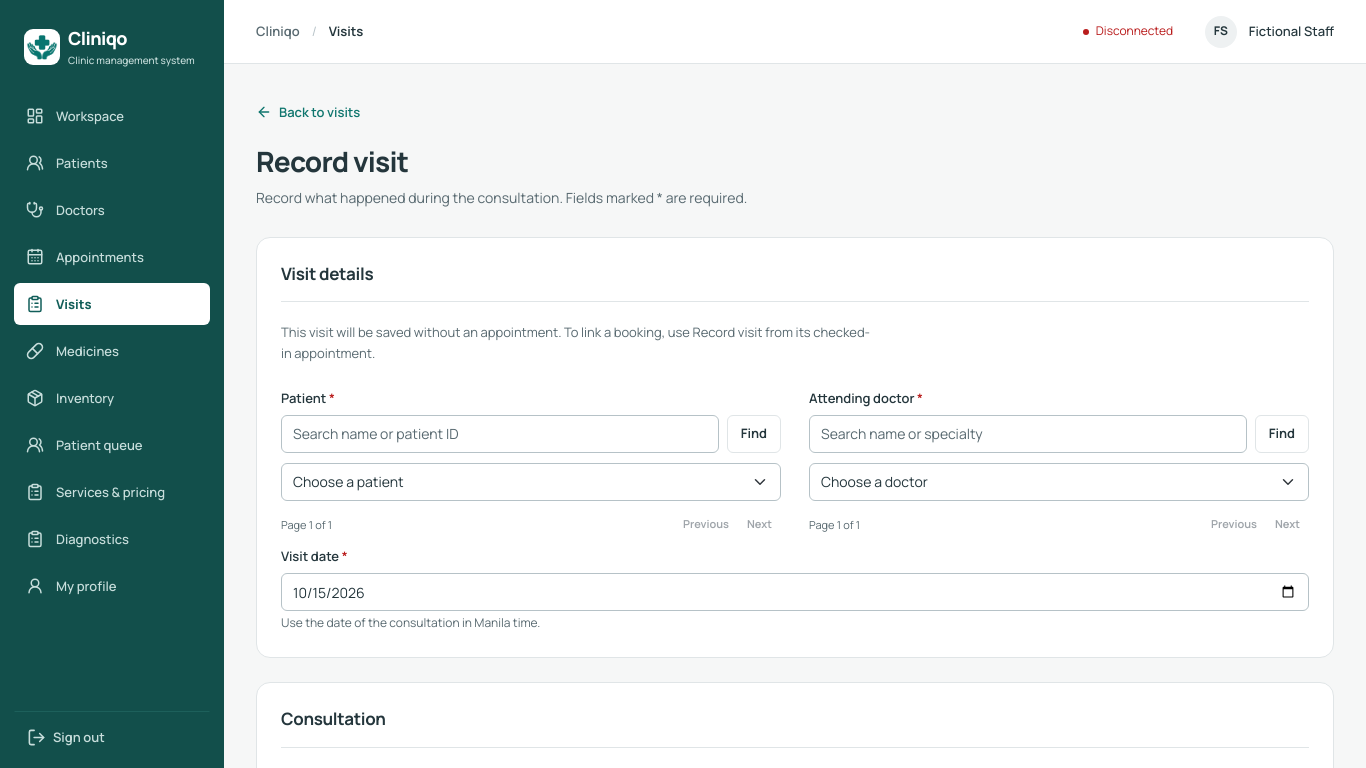
Test case: medicine and inventory screens › selects exact catalog products for a visit without creating a stock movement
The image size is (1366, 768).
Select "Fictional Patient · PT-001" in the dropdown labelled "Patient *" at point(531, 482), box [281,463,781,501]
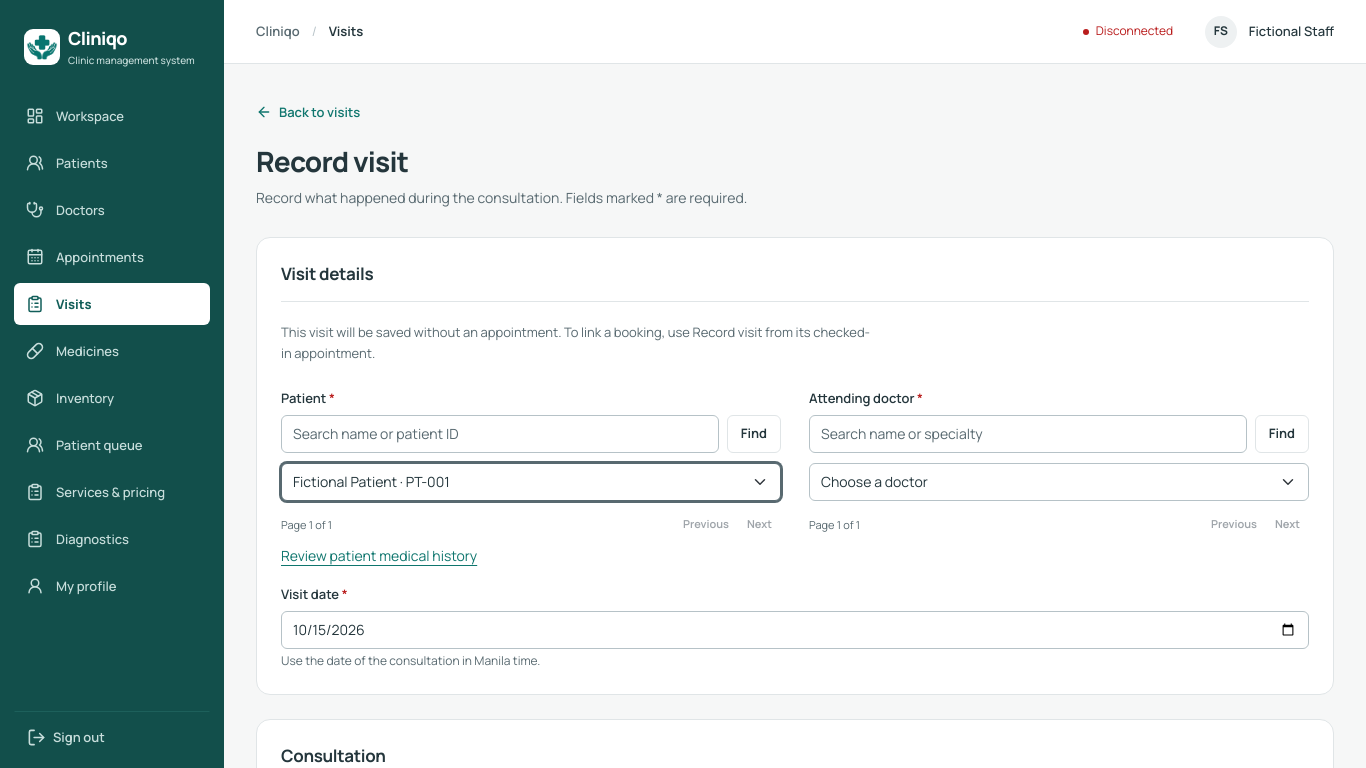
Select "Fictional Doctor · Family medicine" in the dropdown labelled "Attending doctor *" at point(1059, 482), box [809,463,1309,501]
(page scrolled)
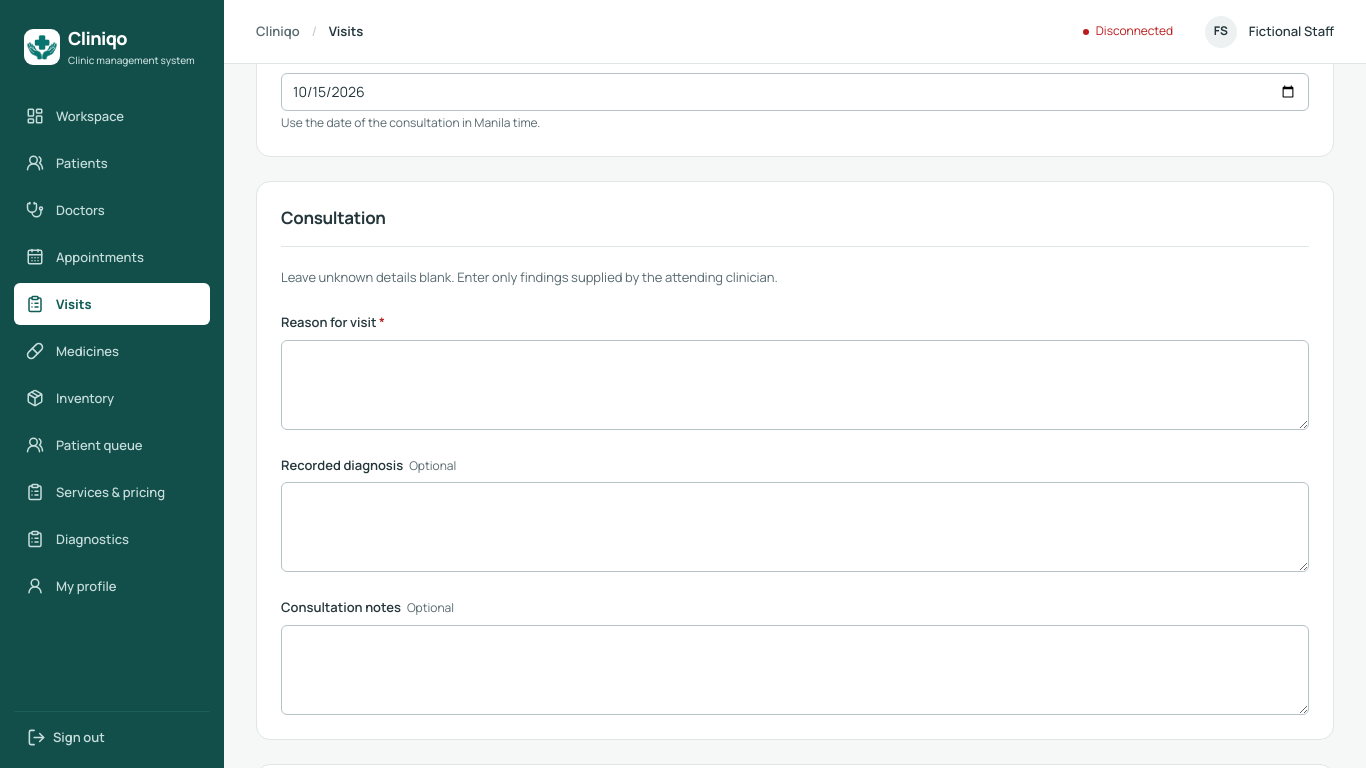
Type "Fictional consultation" into the text box labelled "Reason for visit *" at point(795, 384), box [281,340,1309,430]
(page scrolled)
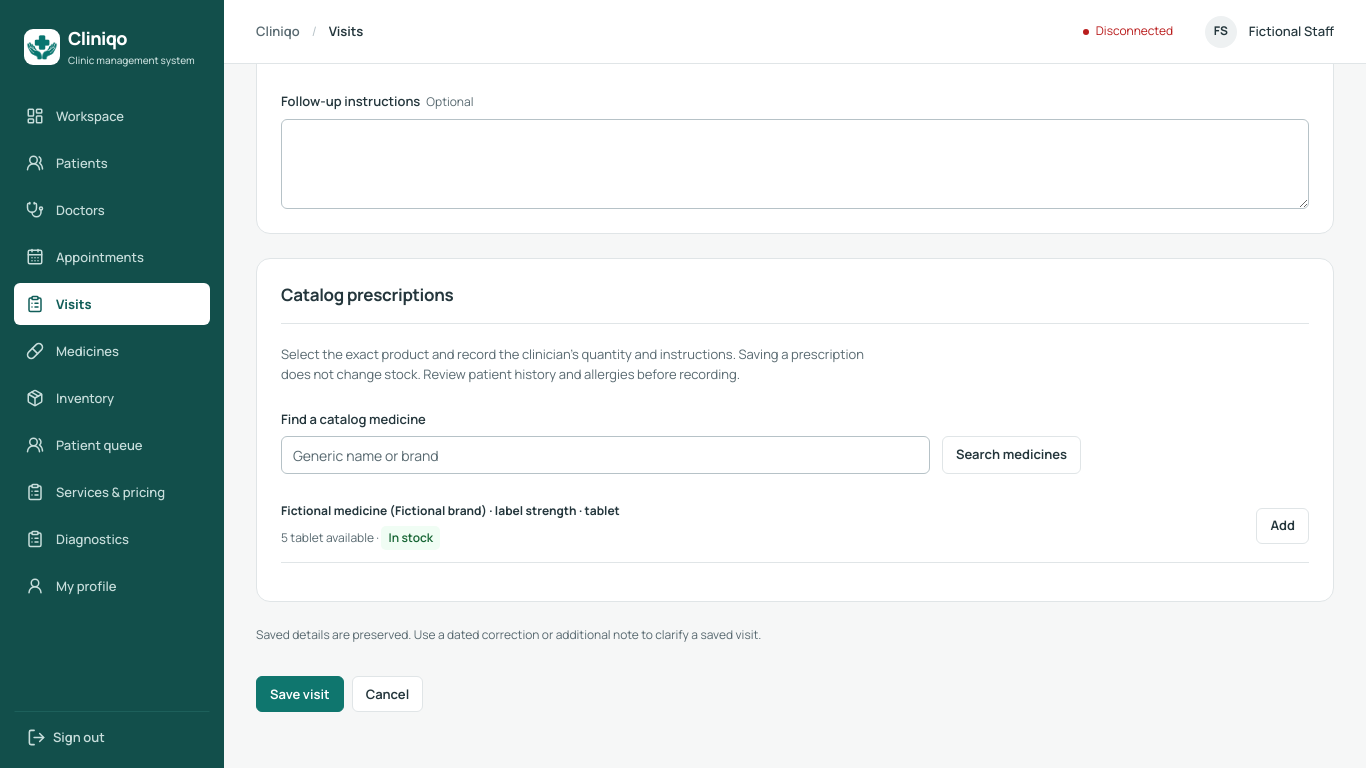
Click the button named "Add Fictional medicine" at point(1283, 526), box [1256,508,1309,544]
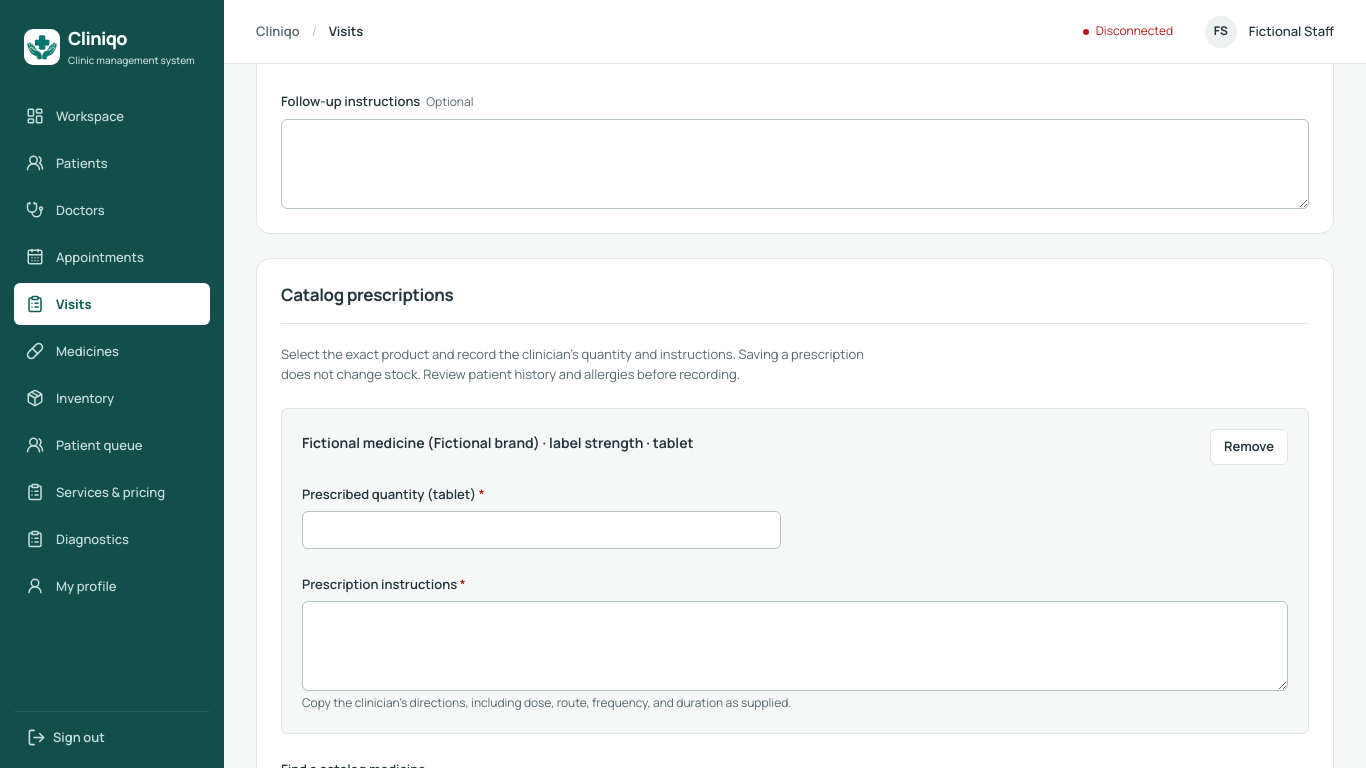
Type "3" into the number field labelled "Prescribed quantity (tablet) *" at point(542, 530), box [302,511,781,549]
Type "Fictional clinician directions" into the text box labelled "Prescription instructions *" at point(795, 646), box [302,601,1288,691]
(page scrolled)
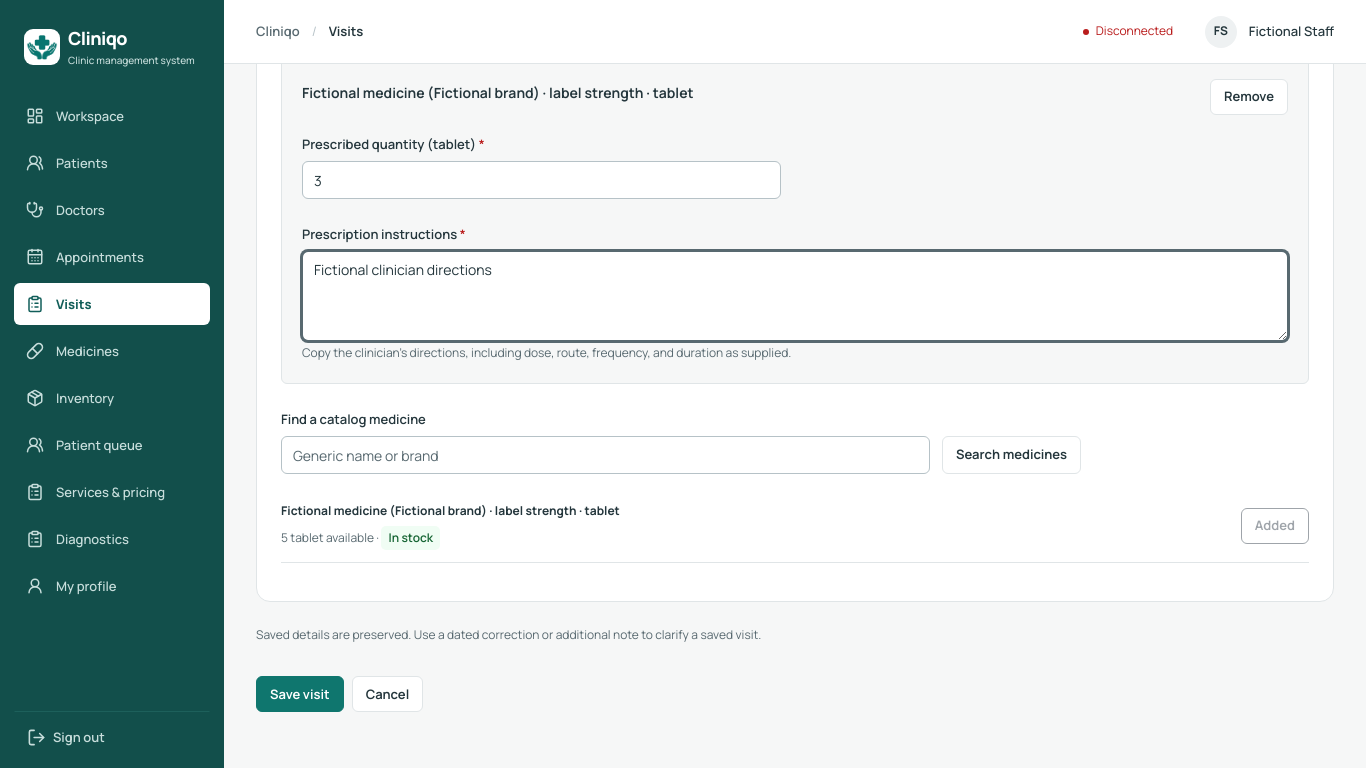
Click the button "Save visit" at point(300, 694), box [256,676,344,712]
(page scrolled)
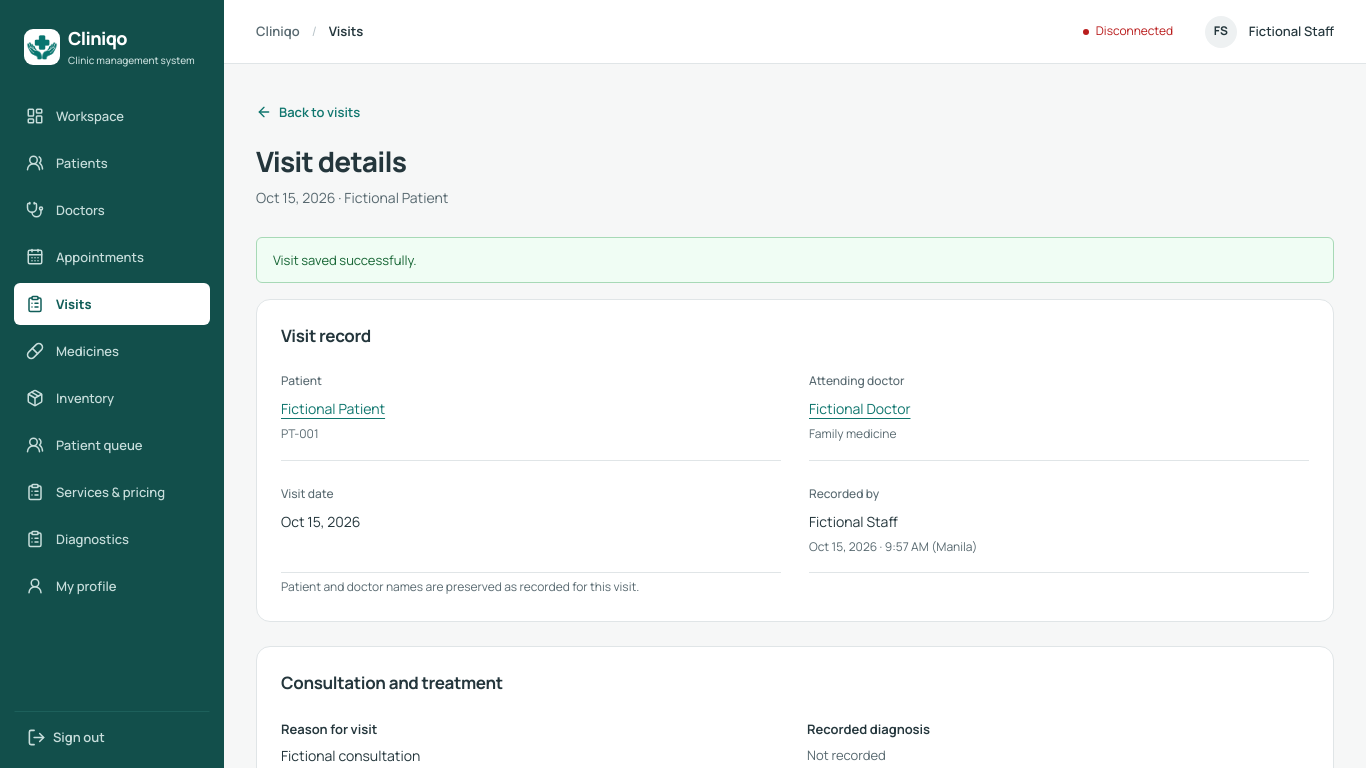
expect the heading "Visit details" is shown: met, box [256,142,406,180]
